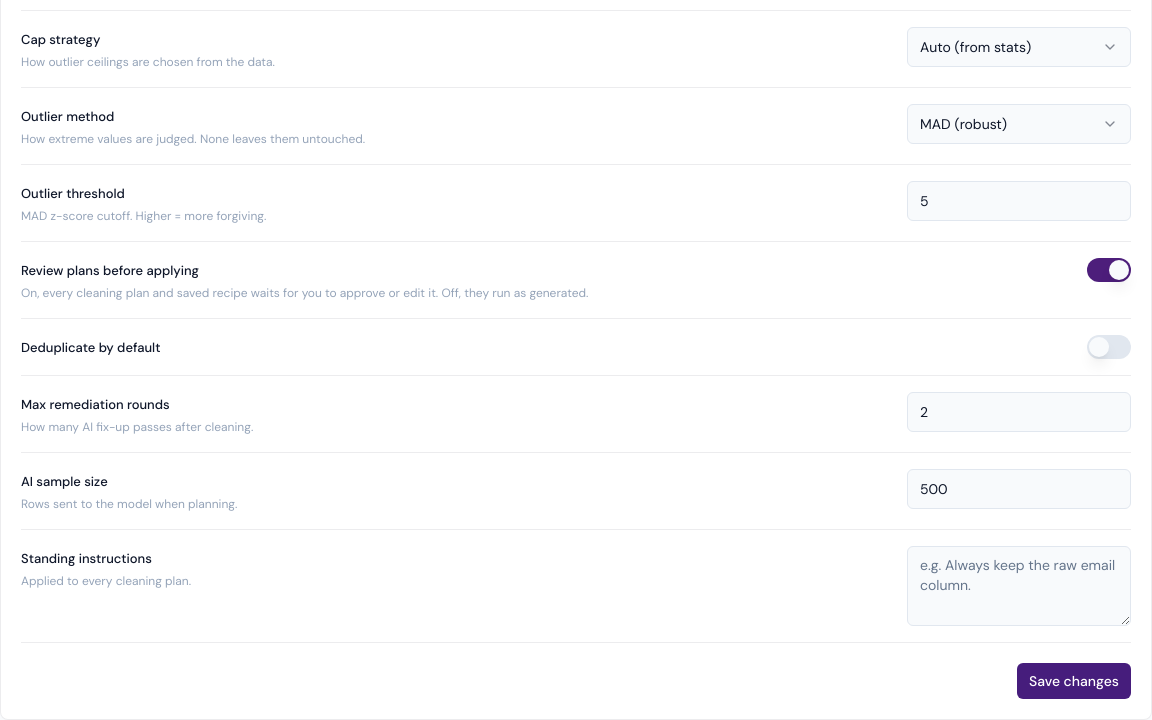
it: CleaningSettings › saves edited preferences and confirms
This screenshot has width=1152, height=720.
(page scrolled)
Step 1. Type "keep raw" into the text box with placeholder "e.g. Always keep the raw email column." → (1019, 586), box [907,546,1131,626]
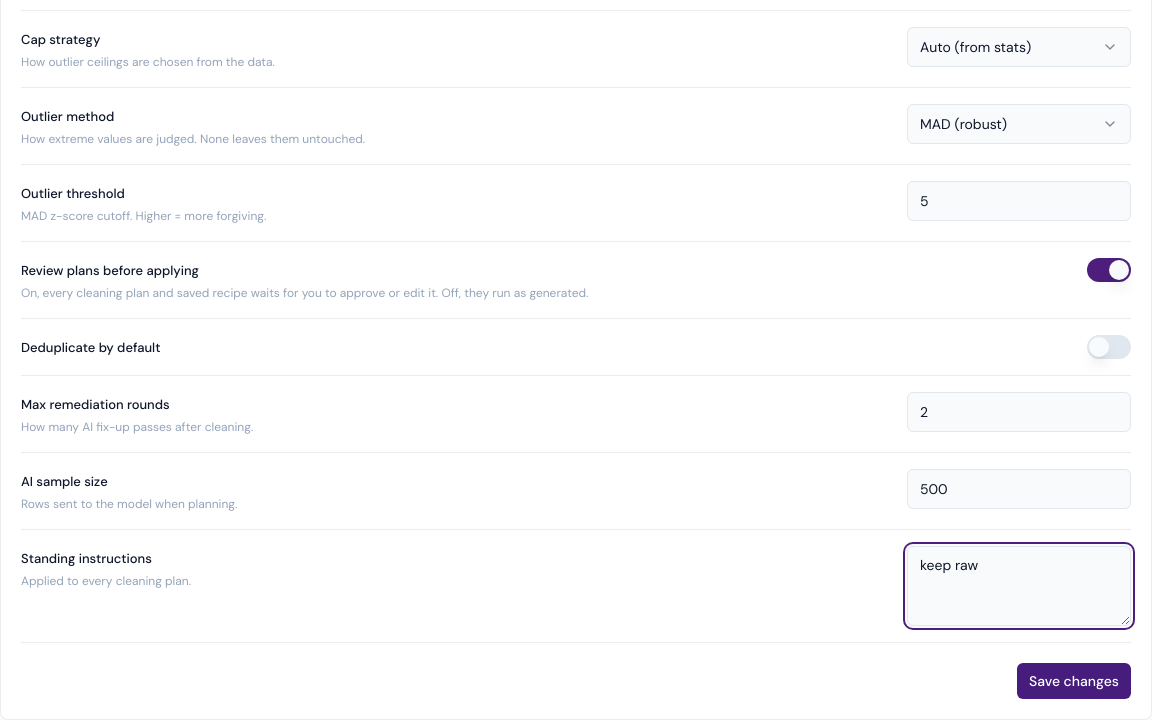
Step 2. Click the button "Save changes" → (1074, 681), box [1017,663,1131,699]
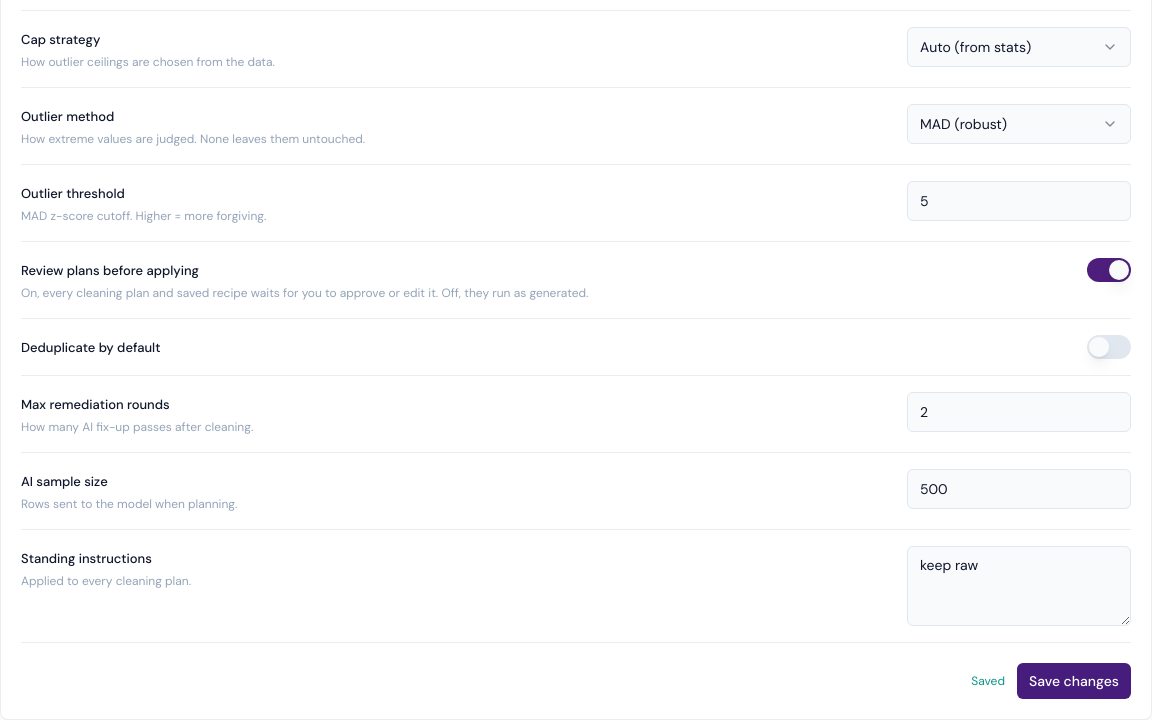
Result: the text "Saved" is shown at [971,672,1005,690]
